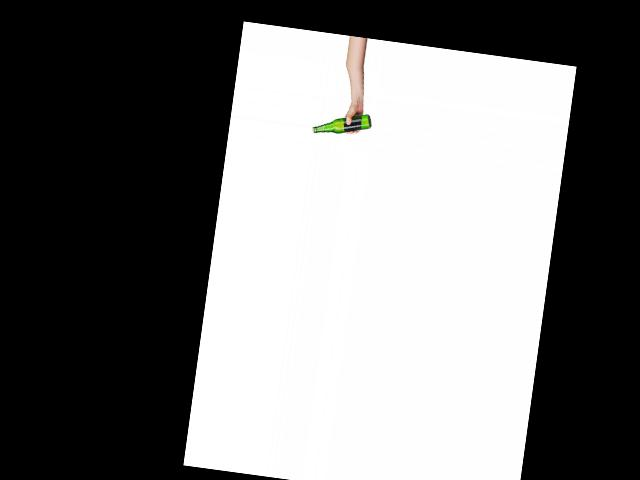beer: (311, 107, 373, 140)
